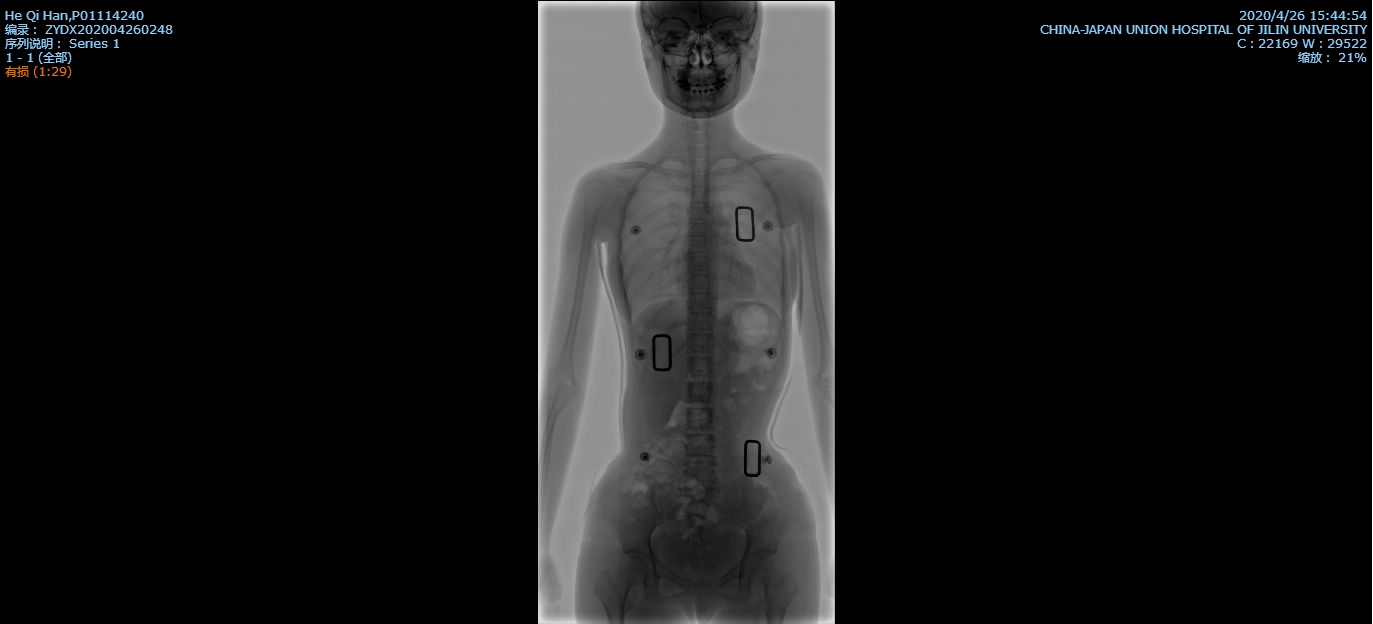Bone: (684, 436, 715, 457), (683, 461, 715, 481), (686, 382, 714, 402), (685, 409, 712, 428), (688, 358, 713, 376), (687, 333, 711, 350), (687, 313, 711, 329), (688, 274, 711, 289), (689, 294, 711, 309), (688, 240, 707, 254), (691, 207, 710, 221), (688, 258, 709, 270), (688, 224, 707, 236), (693, 189, 709, 202), (690, 177, 707, 187)
